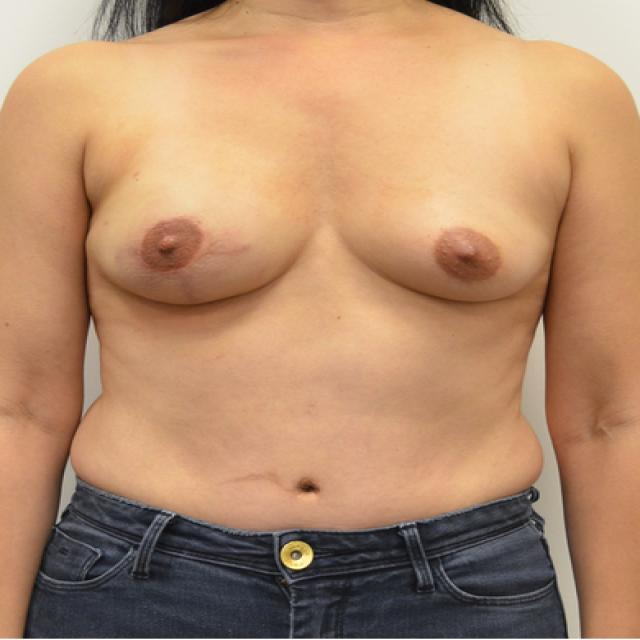Seno herido: (73, 119, 321, 328)
Seno ileso: (326, 119, 574, 328)
